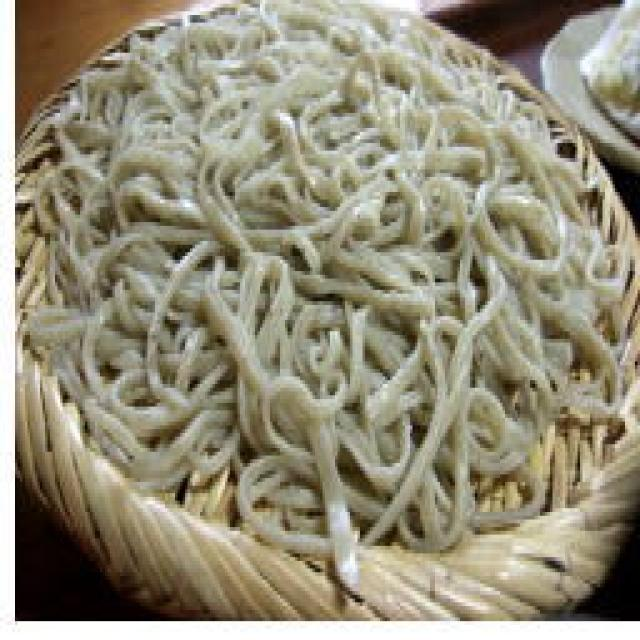面条主食: (15, 0, 640, 617)
